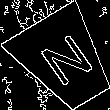N_SE: (31, 29, 97, 93)
